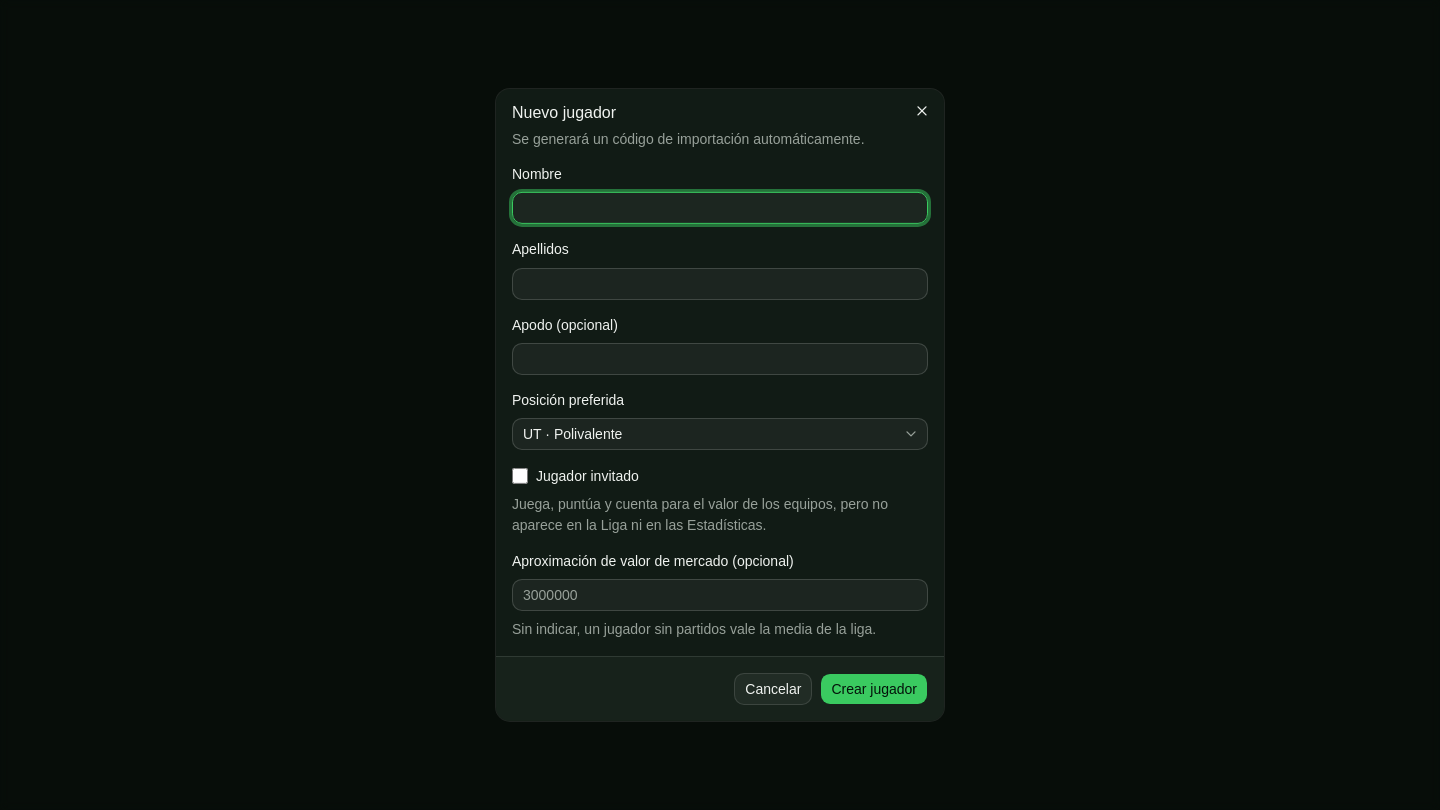
Test case: PlayerFormDialog › refuses to submit without a name
What coordinates should you click on to do the following:
click the button "Crear jugador"
I would click on:
 (874, 689)
Its box is [820,673,928,705].
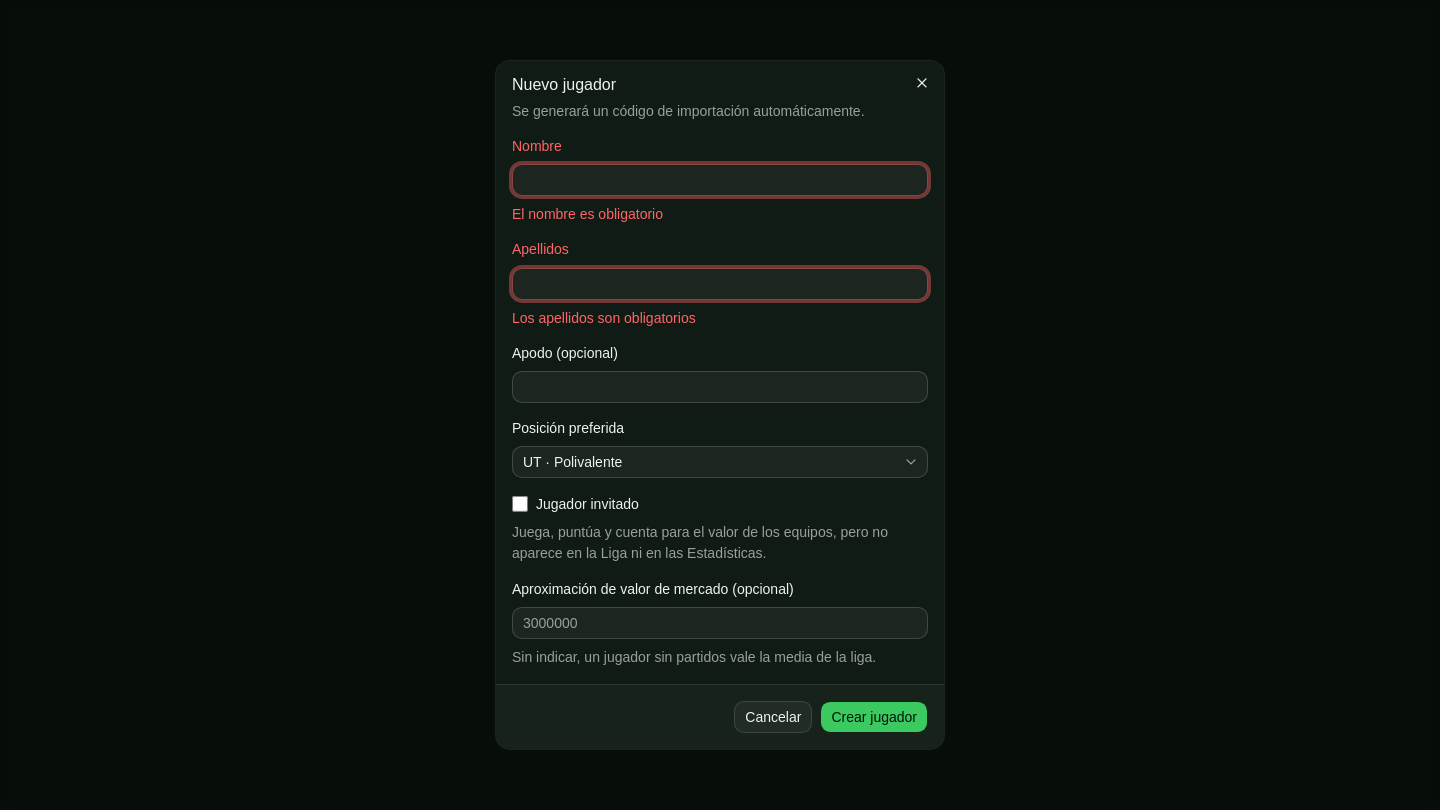
Check: the text "El nombre es obligatorio" is shown, box [512,206,663,222]
Check: the text "Los apellidos son obligatorios" is shown, box [512,309,696,325]
